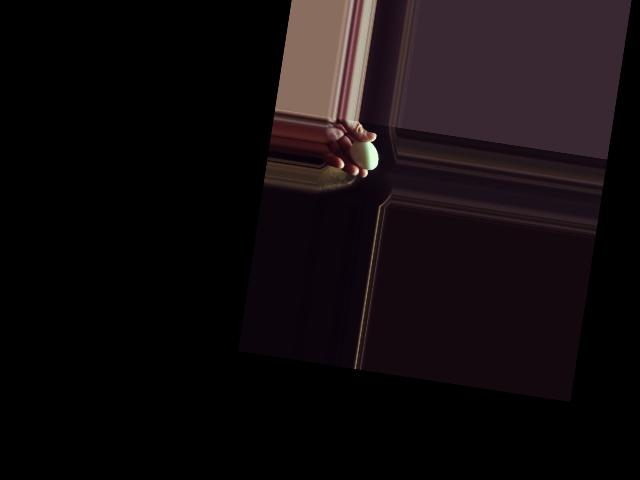egg: (347, 138, 380, 171)
